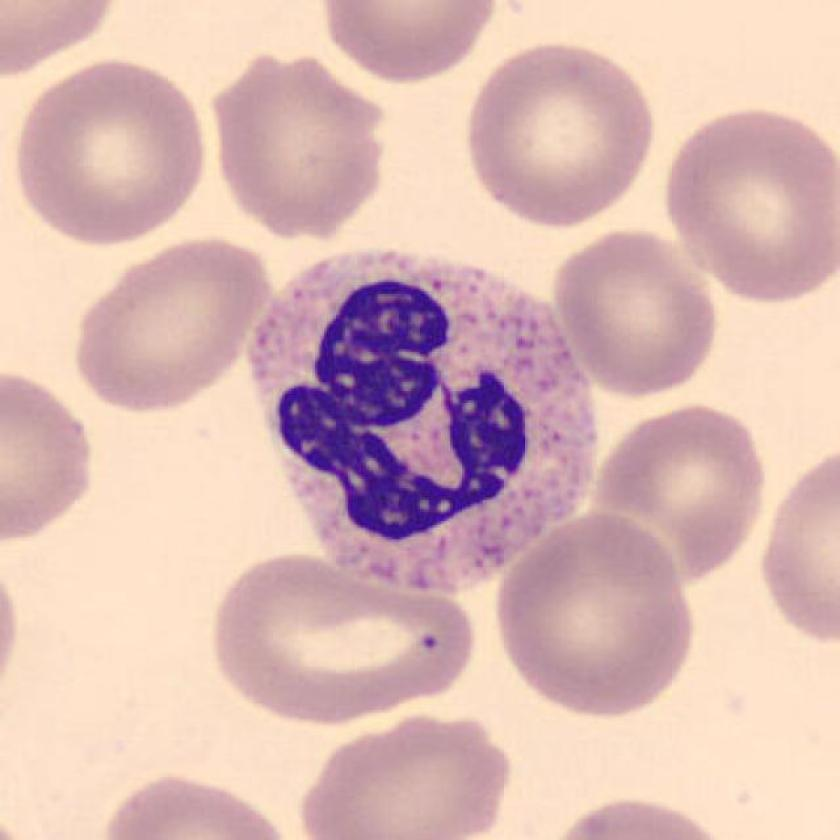neutrophil: (249, 249, 596, 589)
